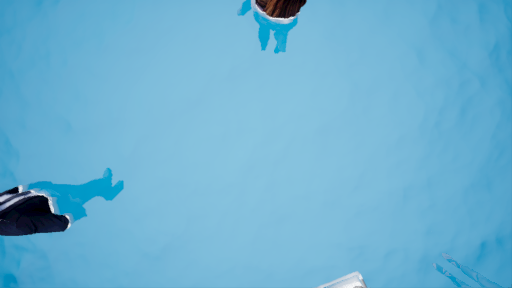person: (1, 176, 131, 241)
